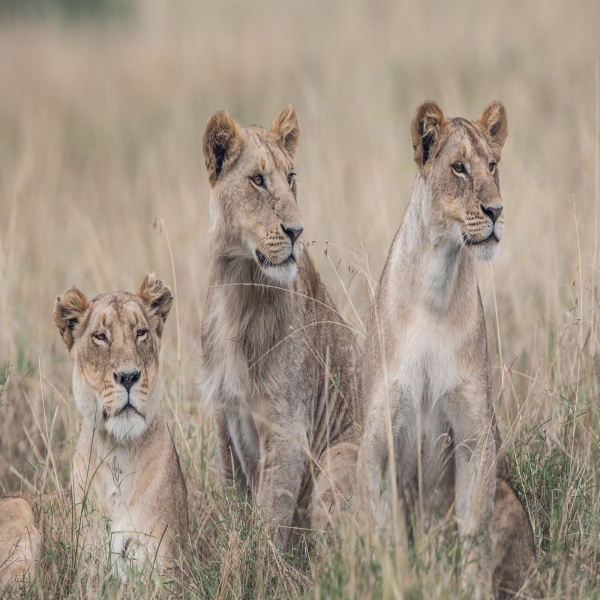Lion: (356, 100, 544, 600), (197, 104, 368, 572), (1, 273, 193, 596)
